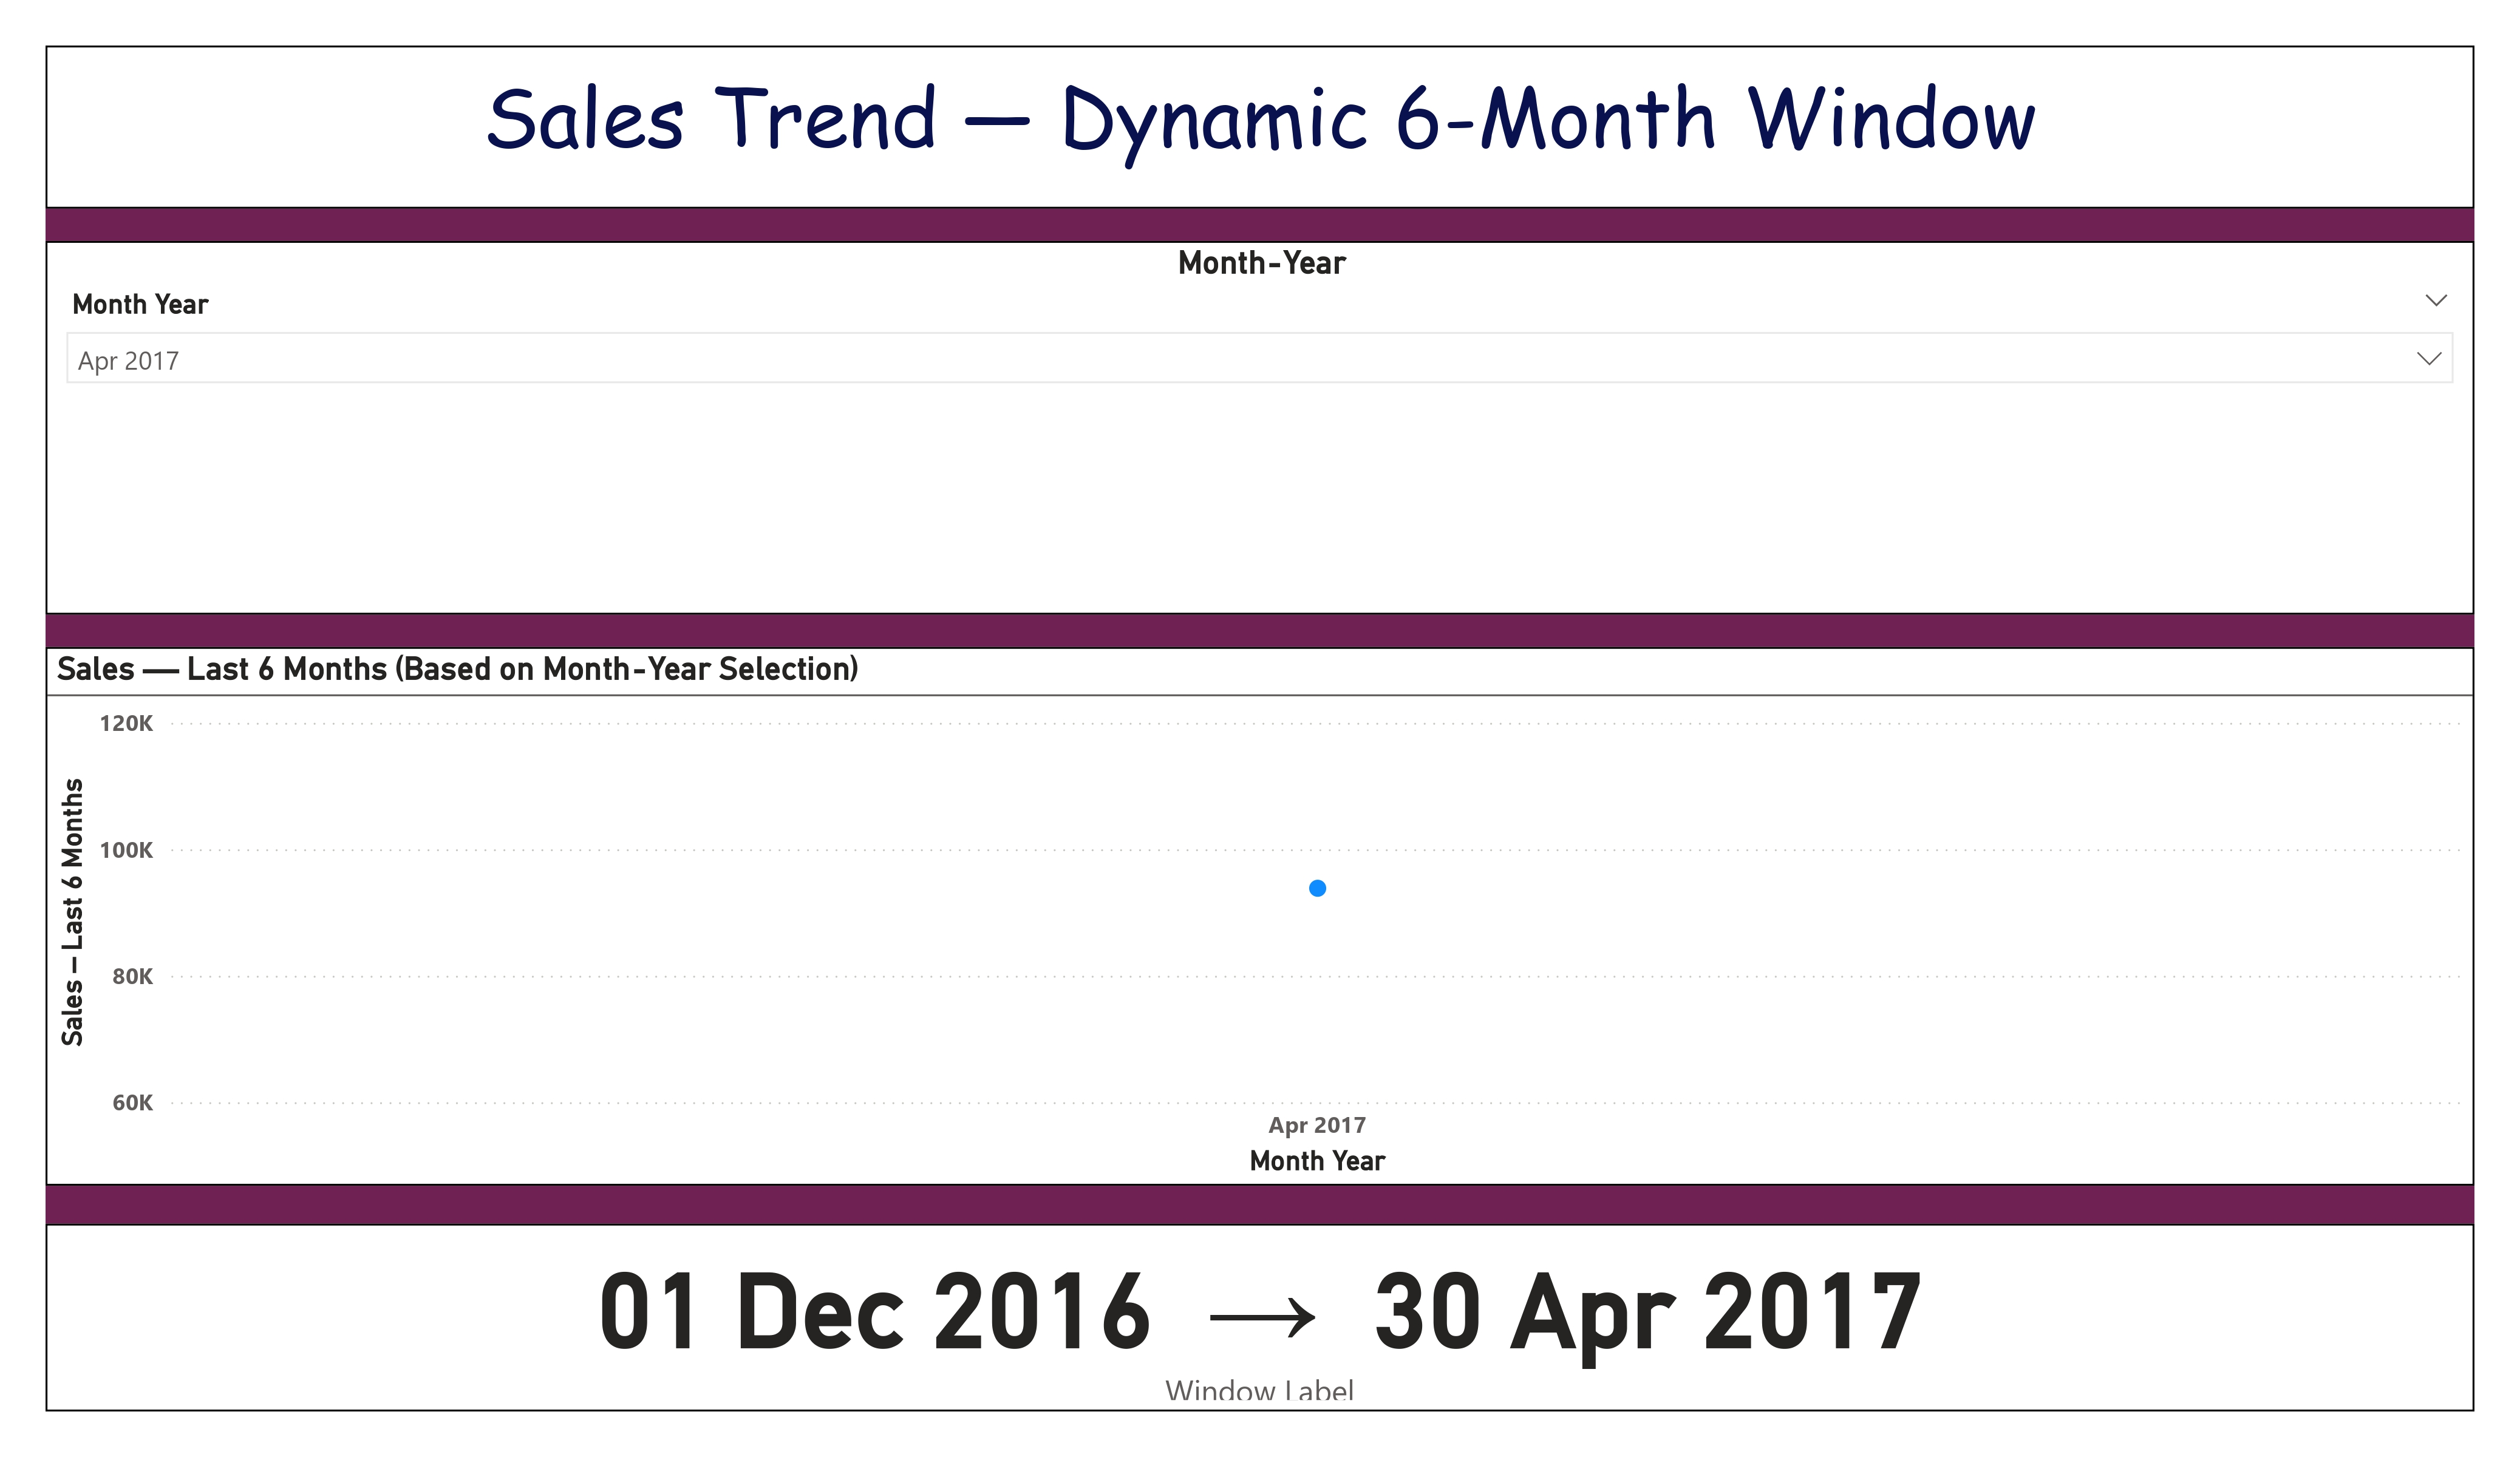

The dashboard page shown, as its layout file describes it:
{"tool":"powerbi","page":{"name":"Sales Trend — Dynamic 6-Month Window","canvas":[1280,720],"ordinal":12},"visuals":[{"type":"slicer","title":"Month-Year","fields":{"Values":["Date.Month Year"]},"box":[0,102.9,1280,197.1],"z":0},{"type":"lineChart","title":"Sales — Last 6 Months (Based on Month-Year Selection)","fields":{"Category":["Date.Month Year"],"Y":["Append1.Sales – Last 6 Months"]},"box":[0,317.1,1280,284.3],"z":1000},{"type":"card","fields":{"Values":["Append1.Window Label"]},"box":[0,621.4,1280,98.6],"z":2000},{"type":"textbox","box":[0,0,1280,85.7],"z":3000}]}

Visuals, with their boxes in screenshot pixels (x1, y1, x2, y2):
"Month-Year" slicer: Rect(72, 239, 2469, 608)
"Sales — Last 6 Months (Based on Month-Year Selection)" lineChart: Rect(72, 640, 2469, 1172)
card - Append1.Window Label: Rect(72, 1209, 2469, 1394)
textbox: Rect(72, 46, 2469, 206)
